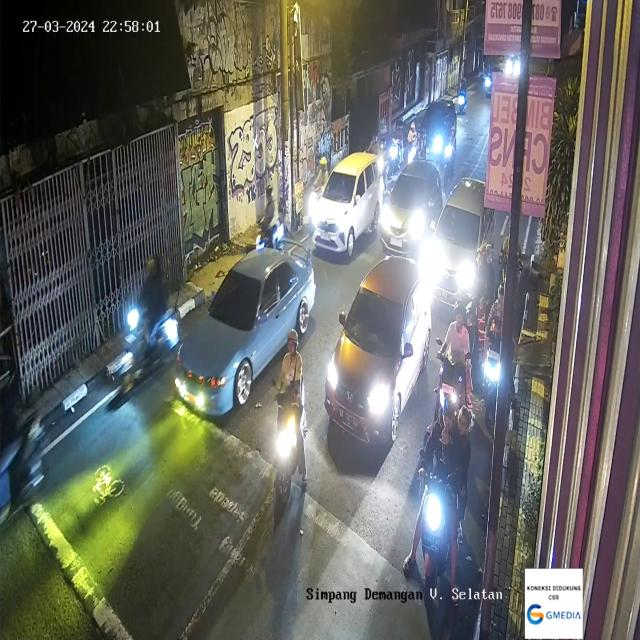car: (171, 237, 316, 415), (323, 250, 433, 455), (429, 171, 495, 319), (312, 150, 386, 277), (384, 158, 448, 264), (420, 96, 466, 169)
motorcycle: (106, 242, 180, 417), (418, 386, 464, 600), (268, 317, 312, 520), (438, 292, 476, 426), (487, 283, 517, 402), (254, 190, 288, 256), (388, 110, 403, 180), (314, 149, 331, 193), (406, 122, 422, 166), (456, 74, 466, 112)
